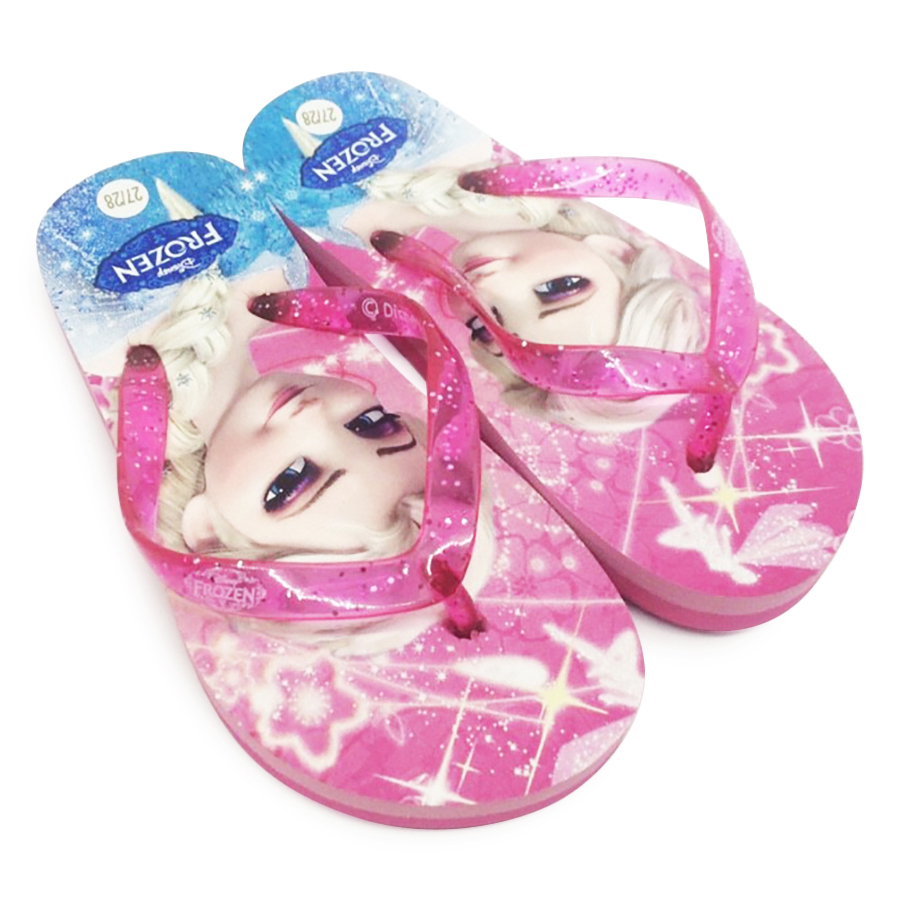Disney: (346, 145, 391, 187), (148, 254, 211, 282)
